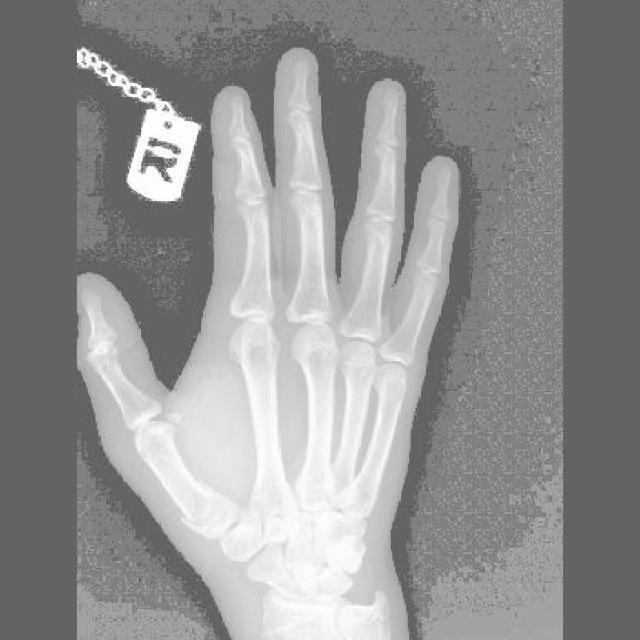Fracture: (174, 480, 227, 533)
